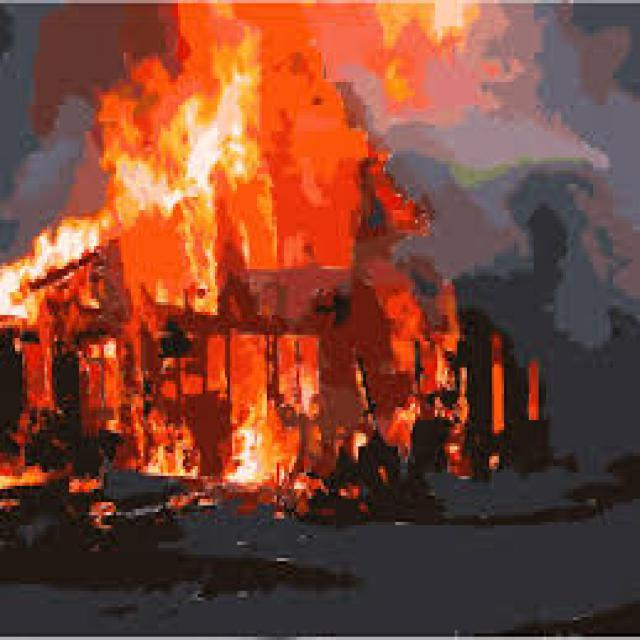Fire: (18, 0, 555, 537)
Smoke: (419, 0, 640, 323)
